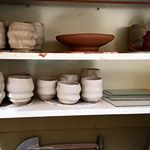cups: (4, 72, 35, 106), (55, 78, 83, 106), (80, 75, 106, 104), (35, 73, 58, 103)
